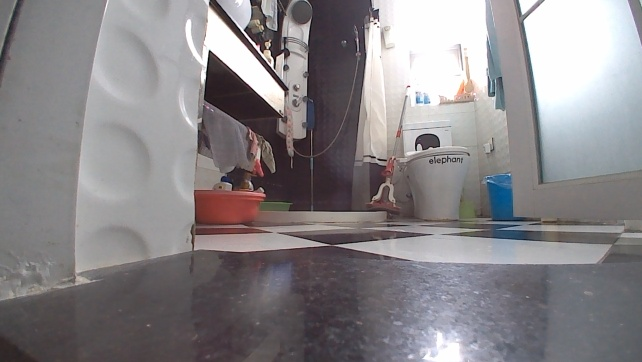door_anno: (489, 0, 641, 225)
toilet: (400, 118, 471, 224)
